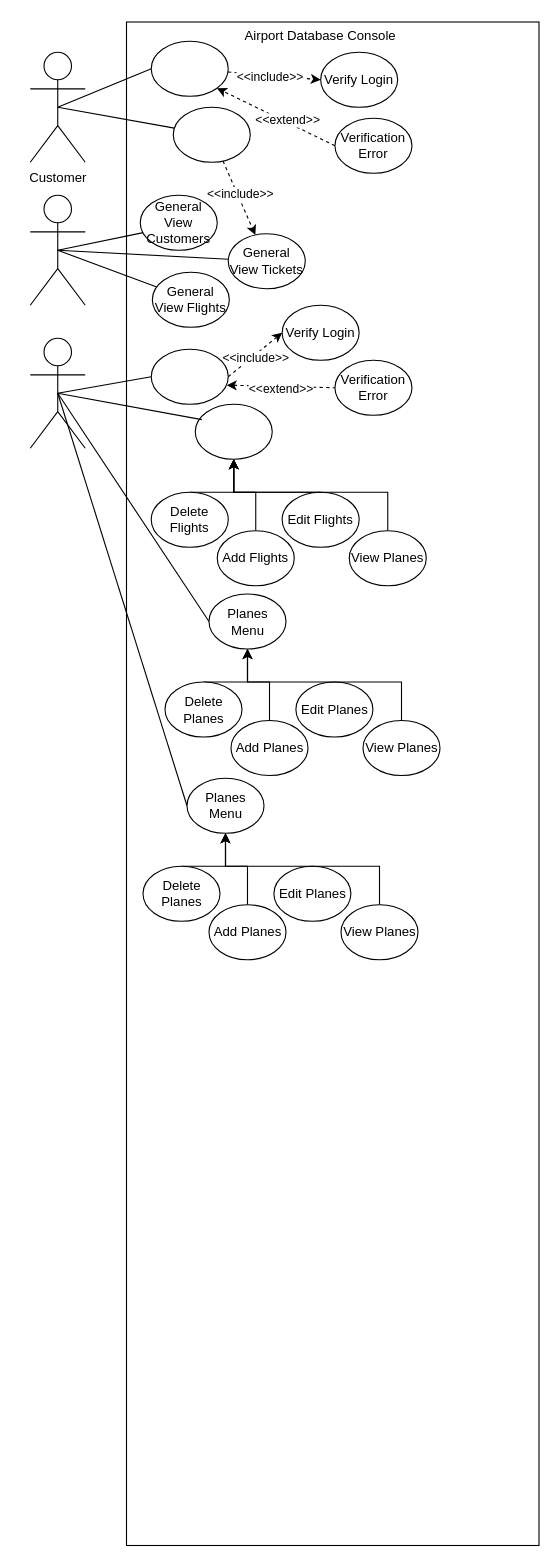
The diagram is 559 pixels wide and 1564 high, and some of its shapes have lost their labels. The shapes that lost their labels are listed below. From the top down, each one's centre as x and y in pixels, then its label:
the point at 189,68: Customer Log In
the point at 211,134: Book Ticket
the point at 57,249: General Staff
the point at 57,392: Admin
the point at 189,376: Admin Log In
the point at 233,431: Flights Menu
